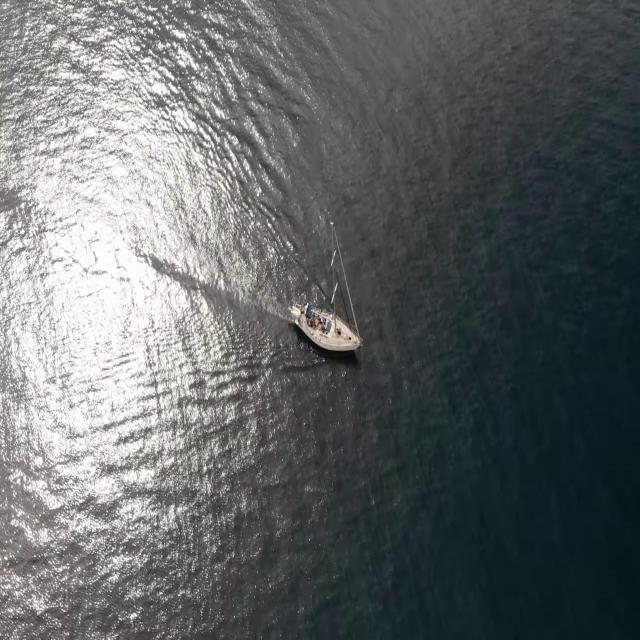sailboat: (288, 221, 364, 354)
